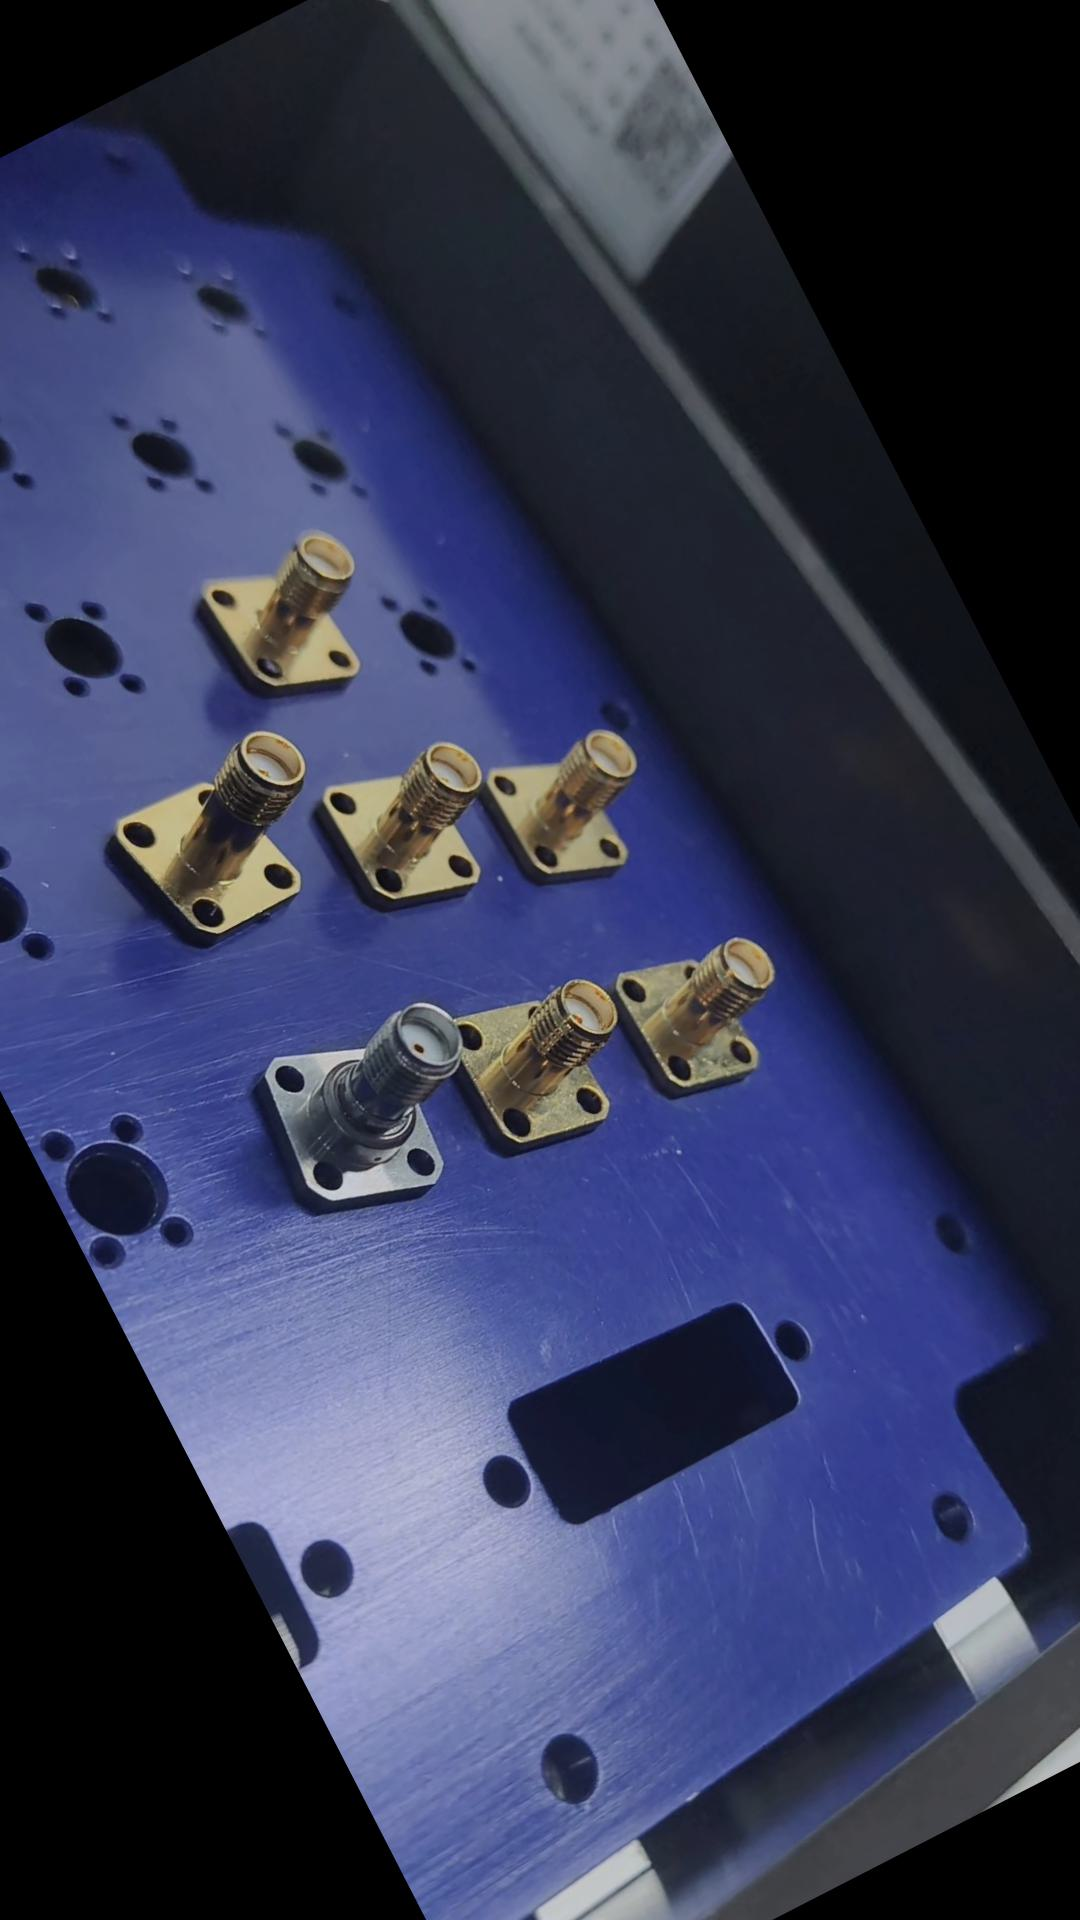SMA: (232, 976, 516, 1246), (91, 712, 357, 964), (438, 951, 659, 1171), (596, 905, 818, 1122), (310, 721, 529, 932), (187, 516, 400, 723), (472, 707, 678, 909)
